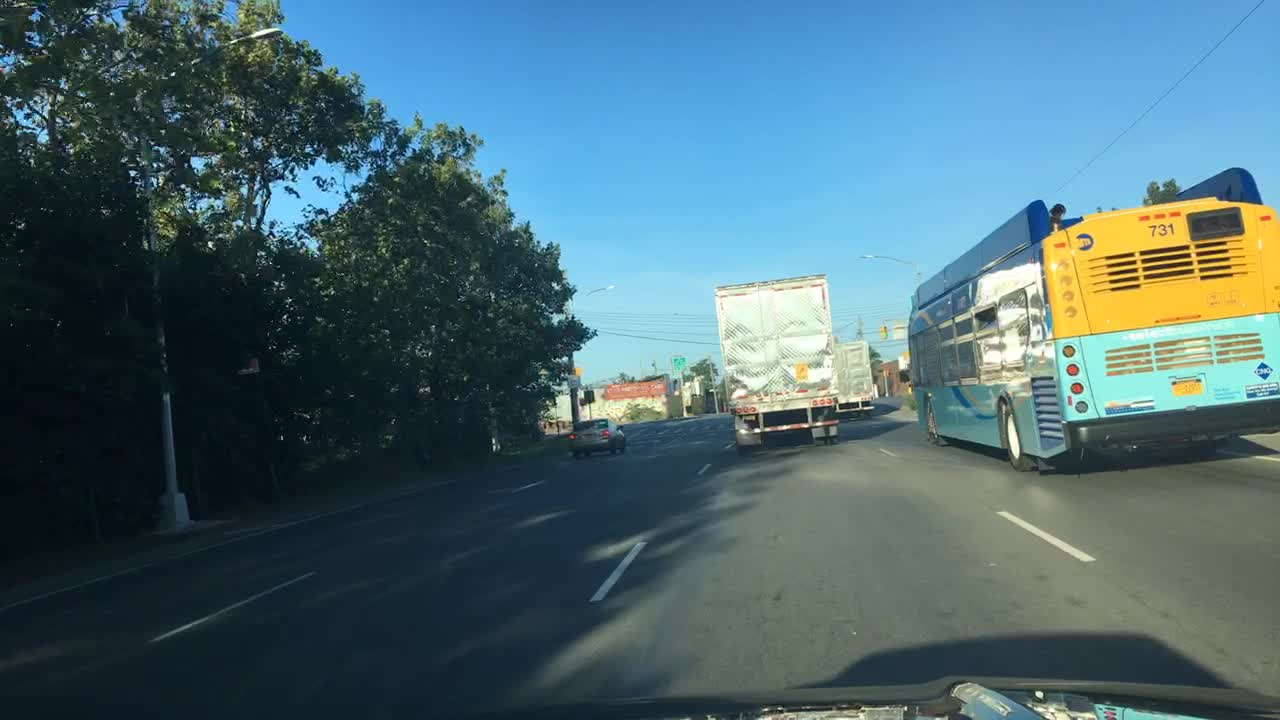car: (567, 417, 625, 457)
person: (541, 416, 551, 436)
traffic light: (568, 364, 581, 375), (902, 350, 909, 365), (879, 326, 884, 344), (880, 325, 885, 339)
traffic sign: (909, 167, 1278, 471), (235, 359, 259, 374), (890, 324, 905, 340), (671, 356, 686, 371), (583, 389, 596, 405), (566, 376, 581, 389)
truck: (709, 272, 840, 455), (831, 340, 875, 421)
